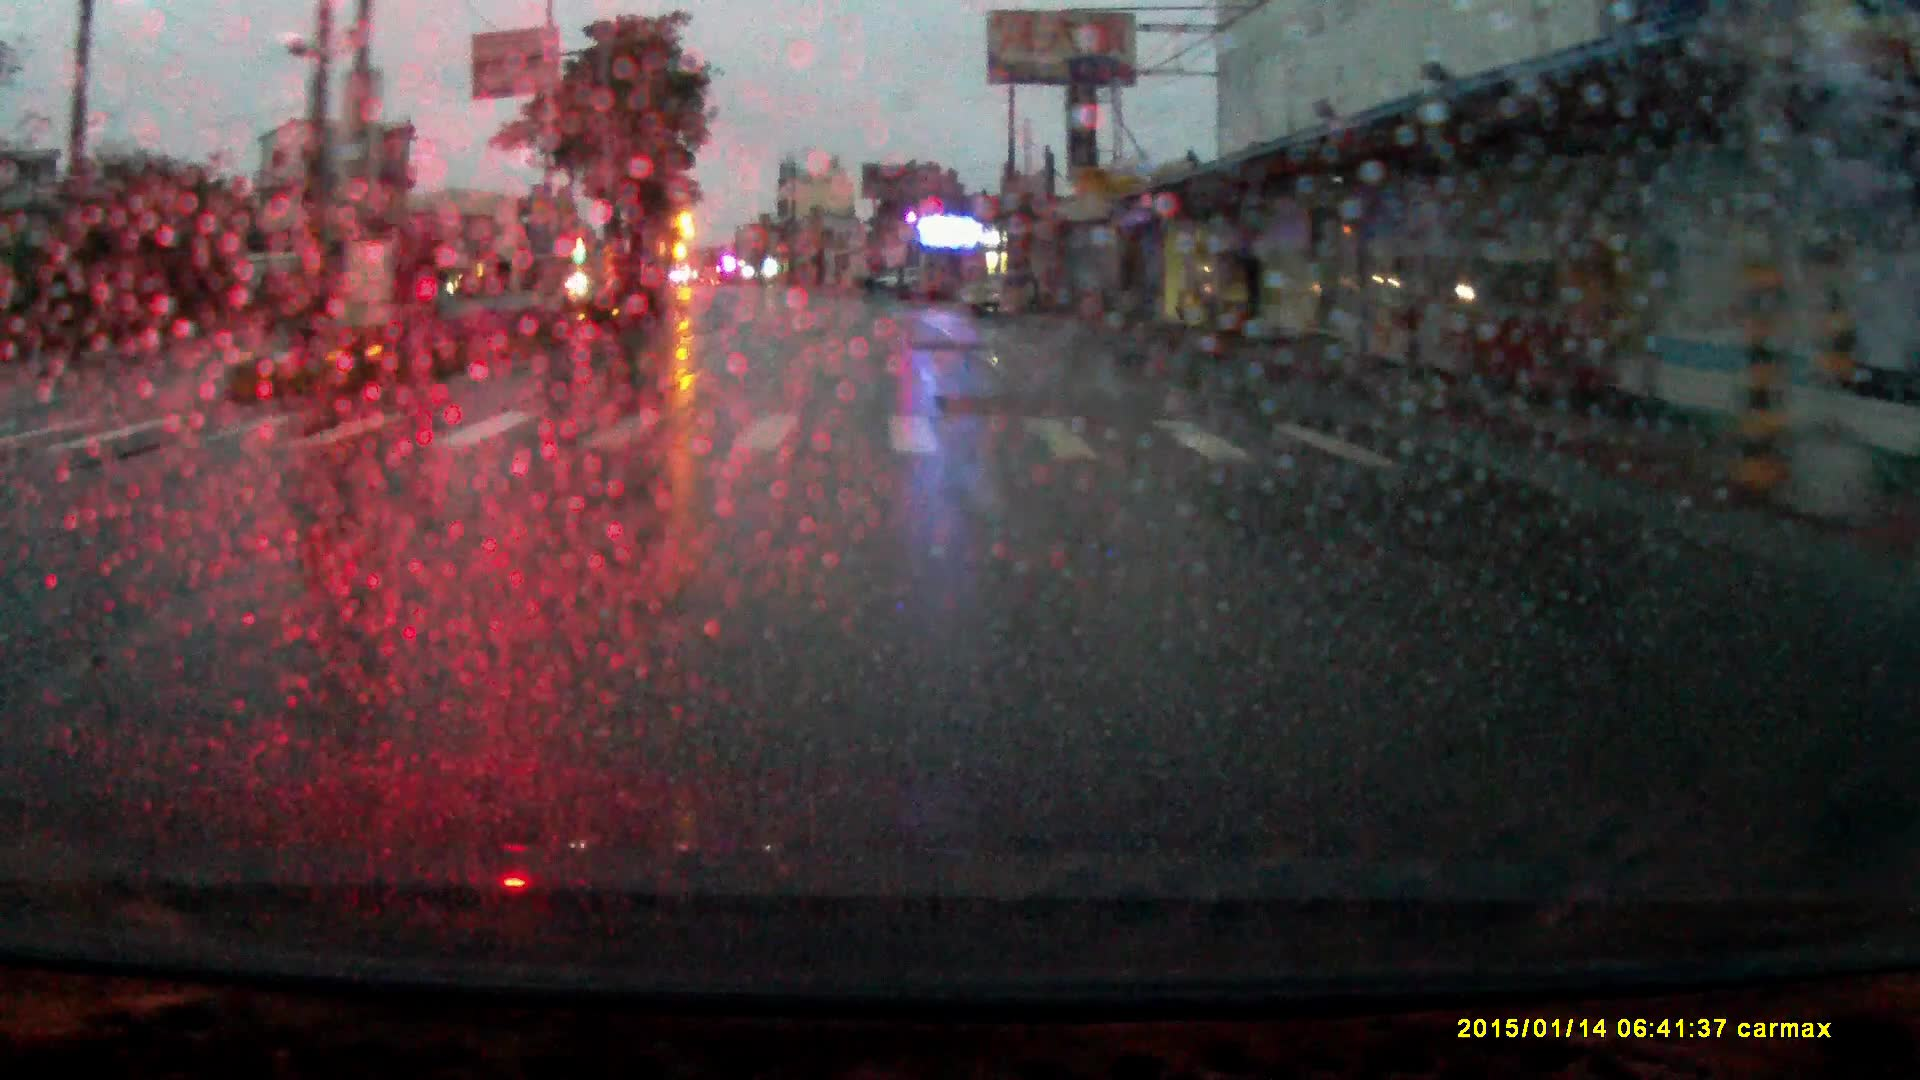vehicle: (960, 277, 1044, 327)
